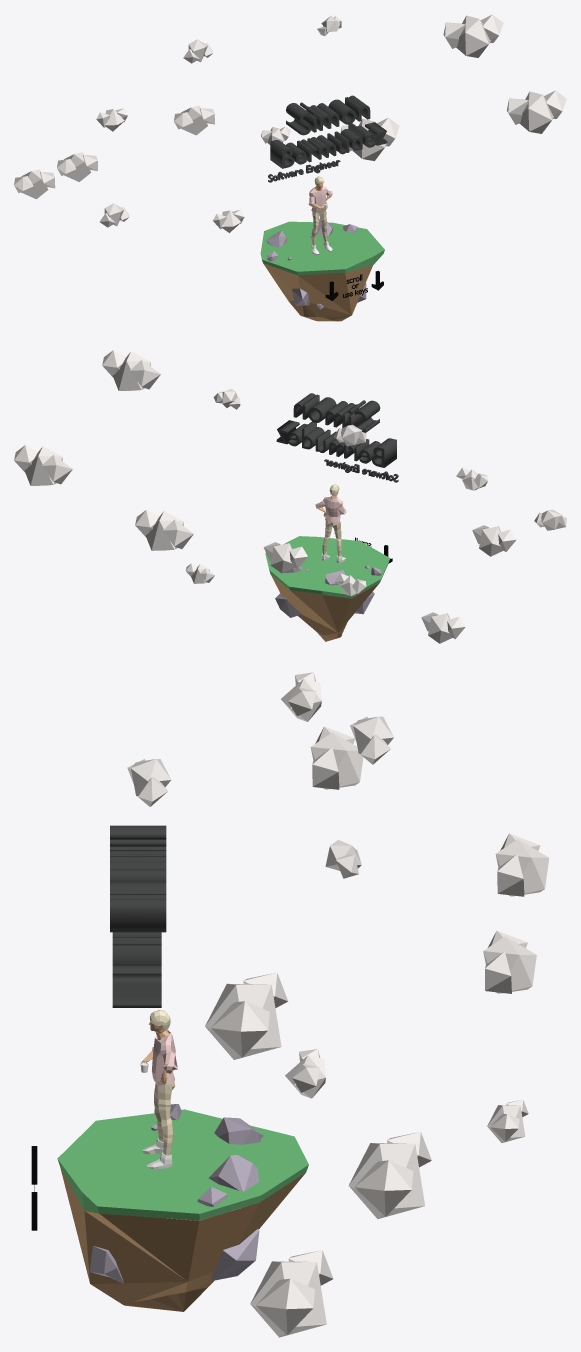
The model's file is title.glb.
3 views of the same model, one above another, from view 1: azimuth 30°, elevation 25°; view 2: azimuth 150°, elevation 25°; view 3: azimuth 270°, elevation 25° (orthographic). The views are drawn at different scales.
Visible parts, largest first — view 1: Cylinder, NameLine2, NameLine1, Sphere.010, Sphere.007, Cylinder.002, Sphere.005, Sphere.008, Sphere.011, Sphere.004, Sphere.006, Sphere.001 (+3 smaller); view 2: Cylinder, NameLine2, NameLine1, Sphere.007, Sphere.010, Sphere.004, Cylinder.002, Sphere.005, Sphere.008, Sphere.011, Sphere.009, Sphere.002 (+5 smaller); view 3: Cylinder, NameLine1, Sphere.010, Sphere.007, Sphere.004, NameLine2, Cylinder.002, Sphere.008, Sphere.005, Sphere.011, Sphere.002, Sphere.009 (+7 smaller).
Part boxes in pixels (x1=…): Cylinder: x1=260, y1=221, x2=384, y2=321; NameLine2: x1=270, y1=122, x2=387, y2=168; NameLine1: x1=286, y1=95, x2=370, y2=135; Sphere.010: x1=506, y1=90, x2=566, y2=133; Sphere.007: x1=443, y1=14, x2=503, y2=57; Cylinder.002: x1=308, y1=176, x2=332, y2=254; Sphere.005: x1=174, y1=105, x2=214, y2=135; Sphere.008: x1=14, y1=169, x2=55, y2=199; Sphere.011: x1=57, y1=152, x2=97, y2=181; Sphere.004: x1=340, y1=117, x2=399, y2=160; Sphere.006: x1=213, y1=209, x2=244, y2=232; Sphere.001: x1=96, y1=108, x2=127, y2=131; Cylinder: x1=265, y1=536, x2=390, y2=641; NameLine2: x1=276, y1=420, x2=396, y2=467; NameLine1: x1=293, y1=393, x2=380, y2=432; Sphere.007: x1=102, y1=350, x2=160, y2=390; Sphere.010: x1=14, y1=445, x2=72, y2=485; Sphere.004: x1=135, y1=510, x2=193, y2=550; Cylinder.002: x1=315, y1=484, x2=346, y2=562; Sphere.005: x1=263, y1=542, x2=307, y2=573; Sphere.008: x1=421, y1=612, x2=465, y2=643; Sphere.011: x1=472, y1=525, x2=516, y2=556; Sphere.009: x1=534, y1=509, x2=566, y2=530; Sphere.002: x1=334, y1=424, x2=366, y2=445; Cylinder: x1=57, y1=1109, x2=308, y2=1311; NameLine1: x1=110, y1=825, x2=166, y2=932; Sphere.010: x1=250, y1=1250, x2=333, y2=1337; Sphere.007: x1=205, y1=972, x2=288, y2=1059; Sphere.004: x1=348, y1=1131, x2=431, y2=1219; NameLine2: x1=112, y1=932, x2=161, y2=1007; Cylinder.002: x1=140, y1=1010, x2=177, y2=1168; Sphere.008: x1=495, y1=833, x2=549, y2=896; Sphere.005: x1=483, y1=931, x2=536, y2=993; Sphere.011: x1=310, y1=726, x2=363, y2=789; Sphere.002: x1=350, y1=716, x2=393, y2=764; Sphere.009: x1=127, y1=759, x2=171, y2=806.
Size of the model in its own units: 19.29 by 9.68 by 8.61.
